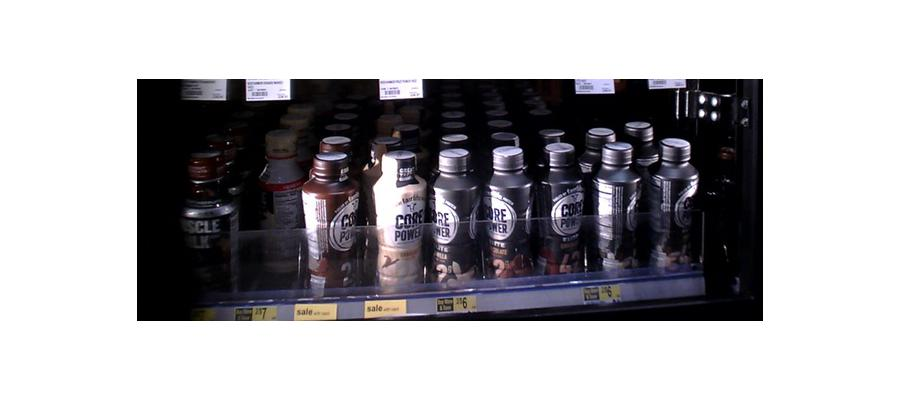bottle: (300, 141, 363, 296), (371, 142, 427, 287), (258, 132, 303, 284), (431, 148, 480, 286), (595, 142, 645, 276), (651, 135, 699, 274), (539, 137, 584, 281), (485, 147, 533, 281)
